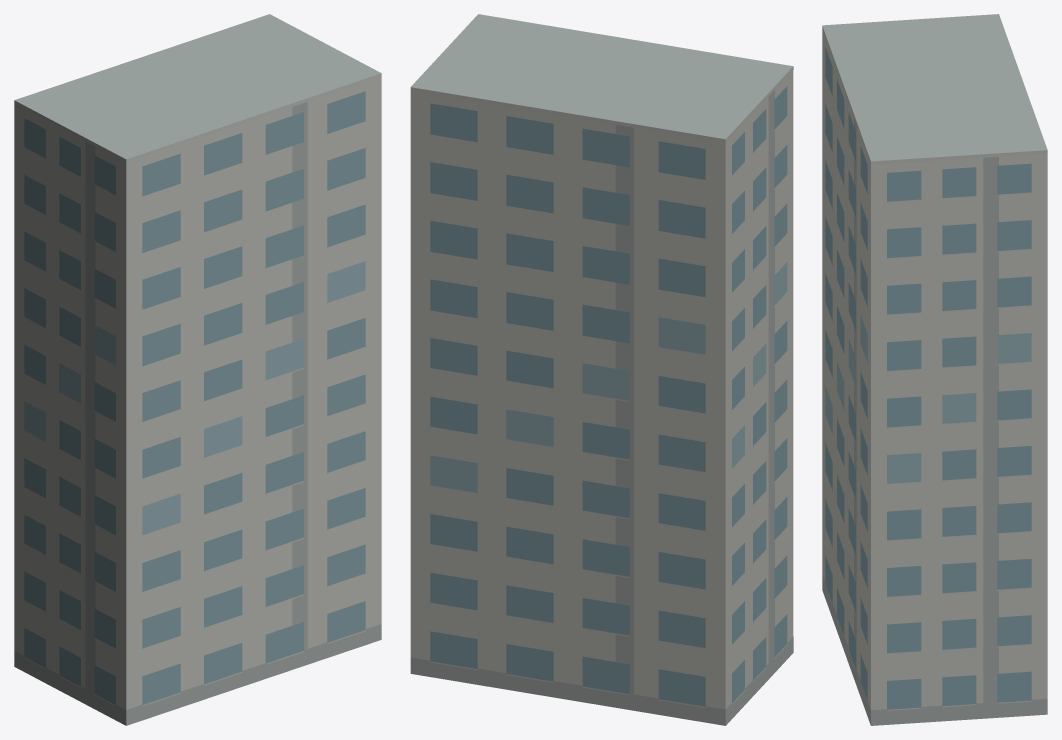
The model's file is residential-2336be49-b76a-4eb7-a3de-98f9be9d3439.glb.
3 views of the same model, side by side, from view 1: azimuth 30°, elevation 25°; view 2: azimuth 150°, elevation 25°; view 3: azimuth 270°, elevation 25° (orthographic). The views are drawn at different scales.
Parts seen in each view (by area): view 1: residential-2336be49-b76a-4eb7-a3de-98f9be9d3439.tmp; view 2: residential-2336be49-b76a-4eb7-a3de-98f9be9d3439.tmp; view 3: residential-2336be49-b76a-4eb7-a3de-98f9be9d3439.tmp.
Boxes of the visible parts, <box> form: residential-2336be49-b76a-4eb7-a3de-98f9be9d3439.tmp: <box>14,14,381,725</box>; residential-2336be49-b76a-4eb7-a3de-98f9be9d3439.tmp: <box>410,14,793,725</box>; residential-2336be49-b76a-4eb7-a3de-98f9be9d3439.tmp: <box>822,14,1047,725</box>.
Size of the model in its own units: 21.85 by 39 by 14.13.
